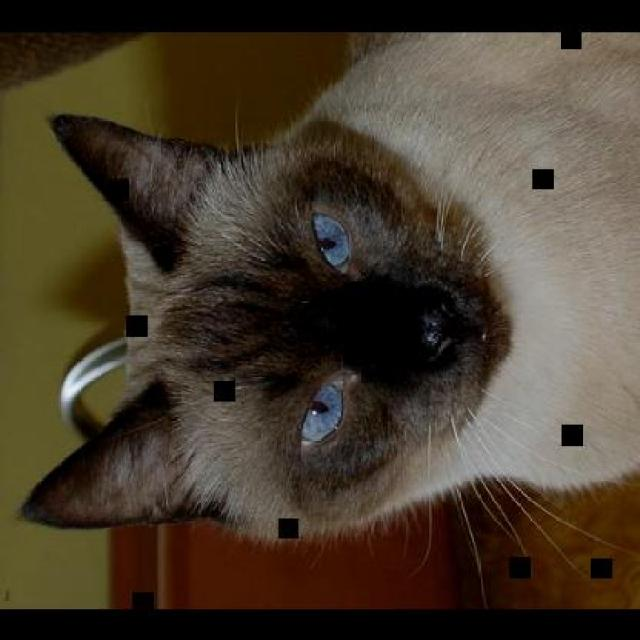unauthorized: (19, 29, 638, 608)
